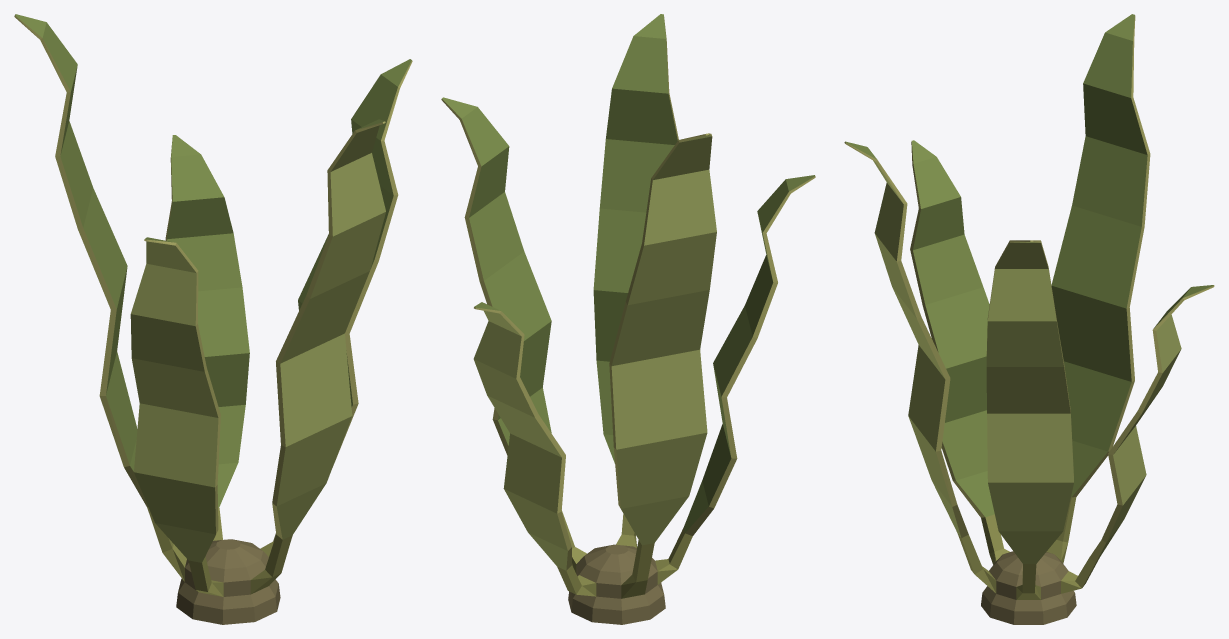
3 renders of one model, left to right at view 1: azimuth 30°, elevation 25°; view 2: azimuth 150°, elevation 25°; view 3: azimuth 270°, elevation 25°, orthographic. The views are drawn at different scales.
Visible parts, largest first — view 1: ContinuousBroadRibbonSeaweed; view 2: ContinuousBroadRibbonSeaweed; view 3: ContinuousBroadRibbonSeaweed.
Boxes of the visible parts, <box> form: ContinuousBroadRibbonSeaweed: <box>14,14,412,624</box>; ContinuousBroadRibbonSeaweed: <box>441,14,815,624</box>; ContinuousBroadRibbonSeaweed: <box>844,14,1214,624</box>.
Size of the model in its own units: 1.11 by 1.81 by 1.16.
